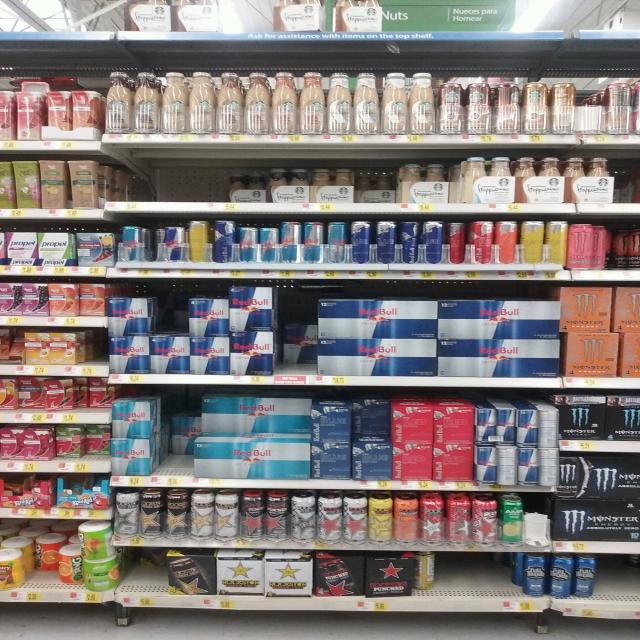unorganised: (79, 525, 119, 591), (277, 319, 320, 374), (595, 226, 640, 269), (123, 549, 170, 588), (163, 422, 194, 473), (352, 401, 391, 441), (73, 378, 110, 414), (358, 171, 398, 203), (550, 554, 574, 601), (33, 542, 61, 578), (189, 219, 210, 265), (83, 426, 111, 460), (231, 173, 266, 200), (416, 551, 437, 593), (17, 378, 44, 409), (447, 222, 466, 266), (66, 478, 104, 496), (147, 230, 167, 259)
